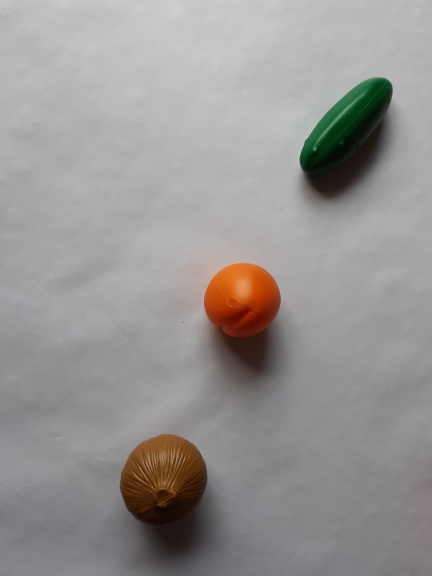apricot: (198, 257, 285, 345)
cucumber: (293, 74, 400, 188)
onion: (116, 430, 210, 532)
